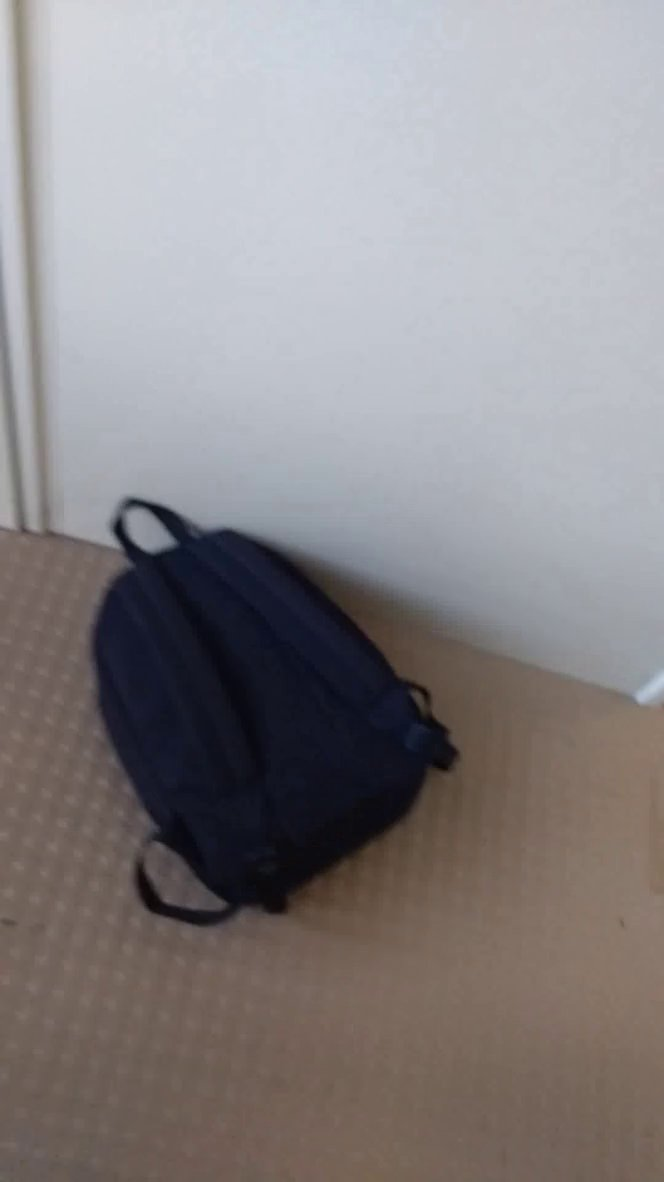bag: (82, 484, 470, 944)
